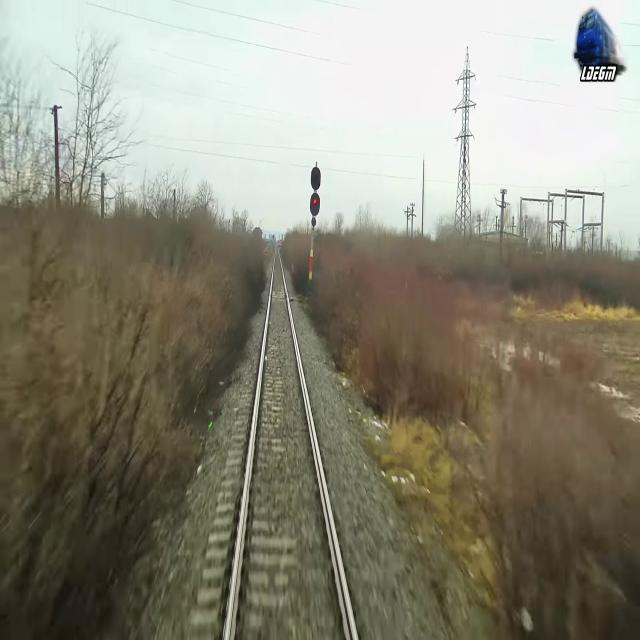rail-track: (228, 245, 353, 639)
